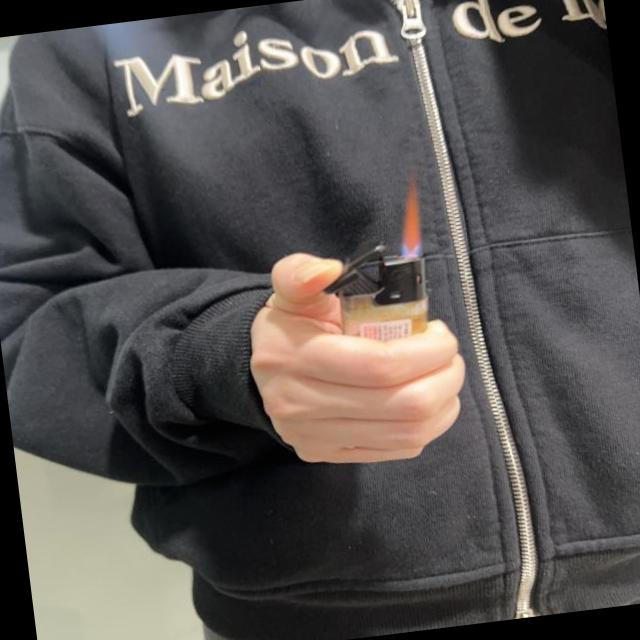Fire: (393, 182, 428, 258)
